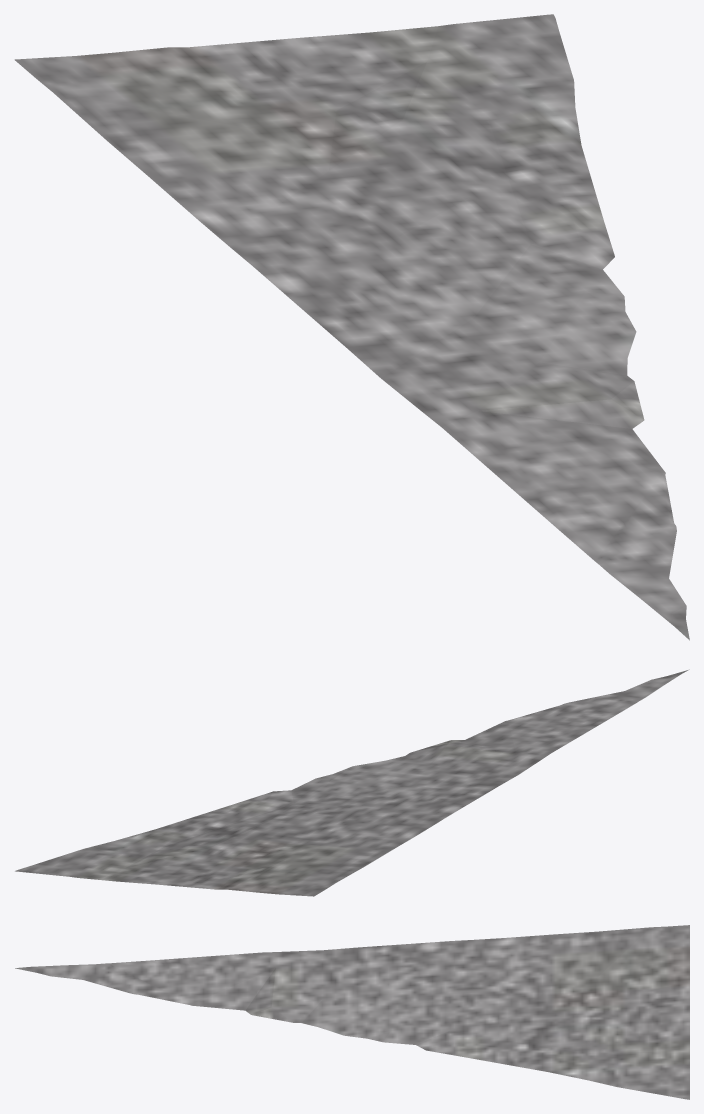
3 renders of one model, top to bottom at view 1: azimuth 30°, elevation 25°; view 2: azimuth 150°, elevation 25°; view 3: azimuth 270°, elevation 25°, orthographic. The views are drawn at different scales.
Size of the model in its own units: 0.4531 by 0.0693 by 0.983.
Materials: 1 (1 with a texture image).
